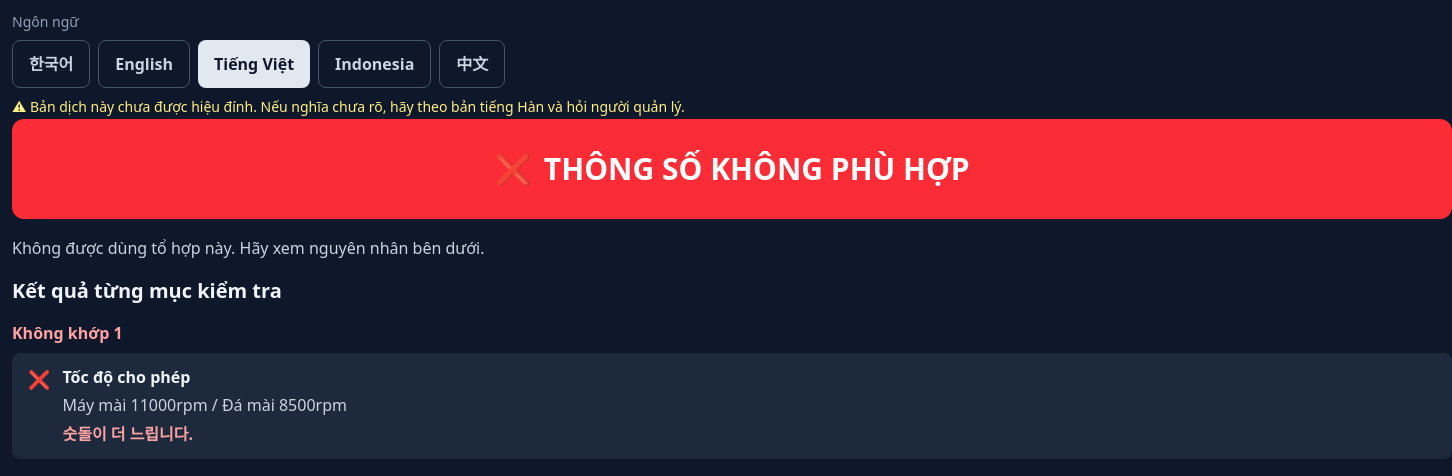
Test: LanguagePicker › 규칙 이름도 함께 바뀐다
This screenshot has width=1452, height=476.
What coordinates should you click on to do the following:
click the button "English"
I would click on:
 (144, 64)
Its box is [98,40,190,88].
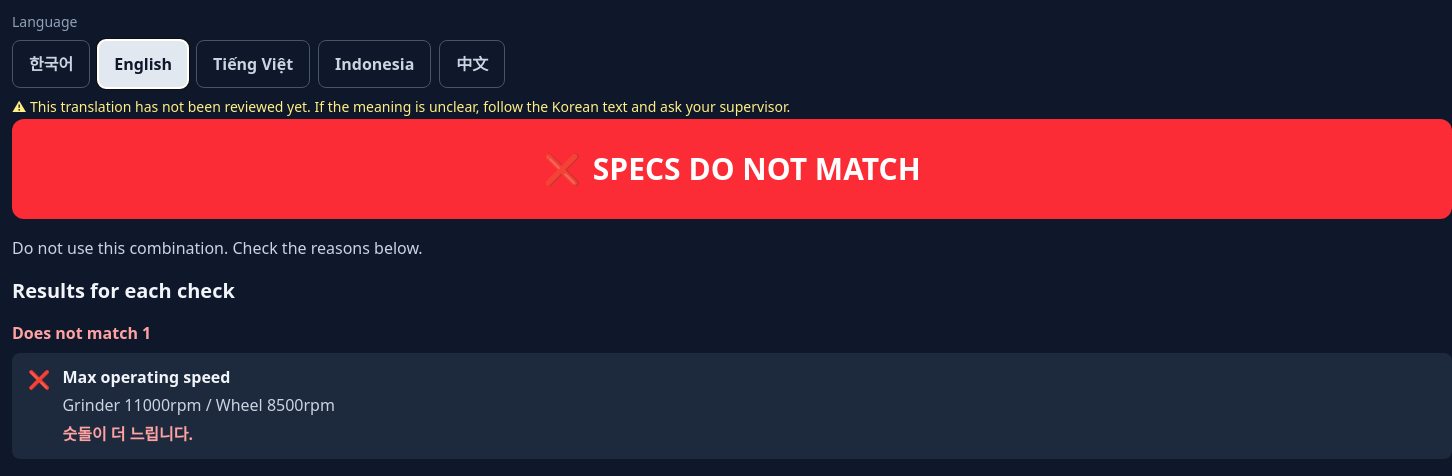
Expected: the text "Max operating speed" is shown, [62,366,230,388]
